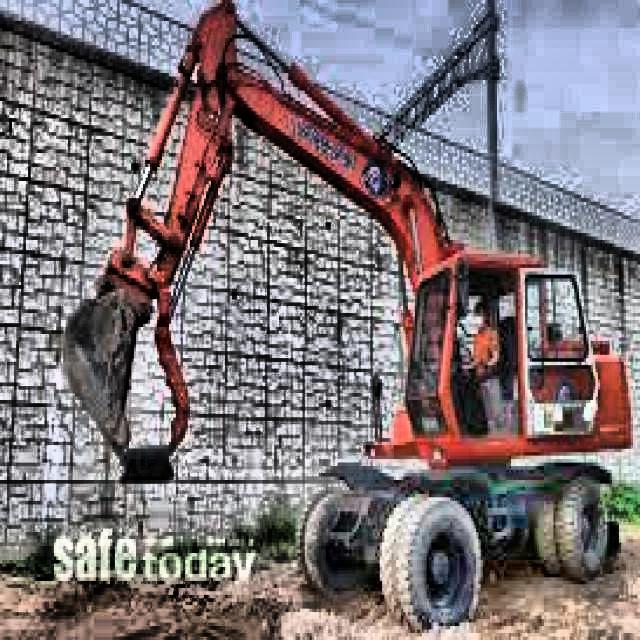bull_dozer/loader/grader: (64, 0, 633, 640)
person: (468, 295, 503, 433)
